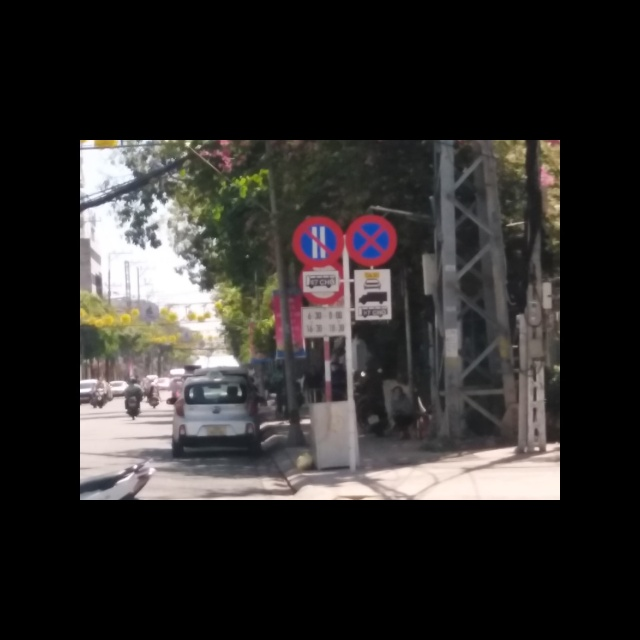Cấm dừng xe và đỗ xe: (345, 214, 398, 267)
Cấm đỗ xe ngày chẵn: (290, 215, 342, 264)
